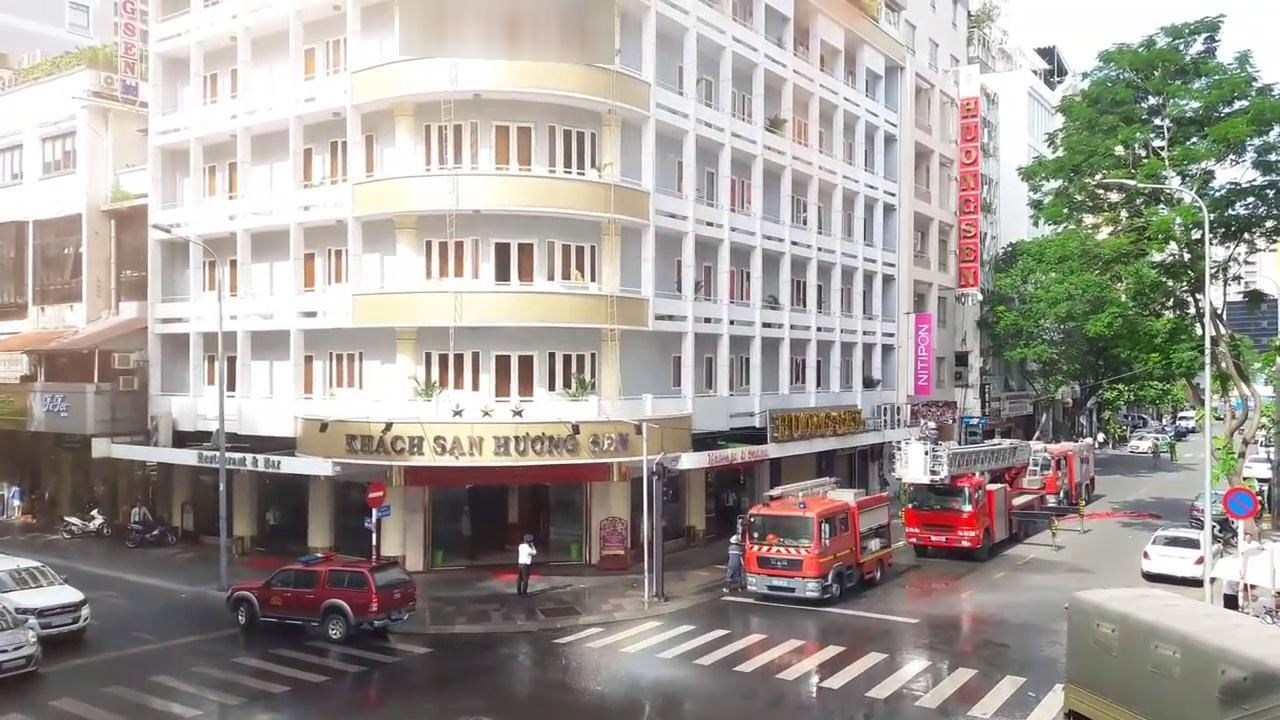xe cuu hoa: (892, 437, 1044, 559), (744, 475, 890, 600)
xe hoi: (225, 551, 416, 644), (0, 552, 91, 636), (1141, 526, 1205, 577)
